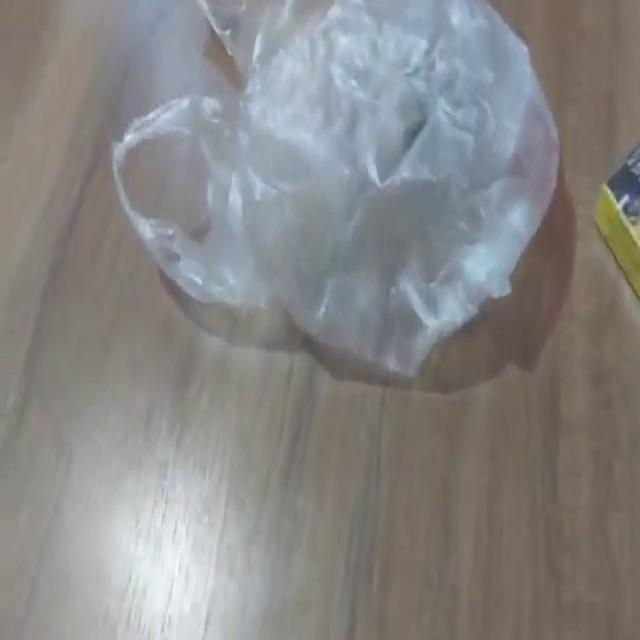Anorganik: (108, 2, 565, 384)
